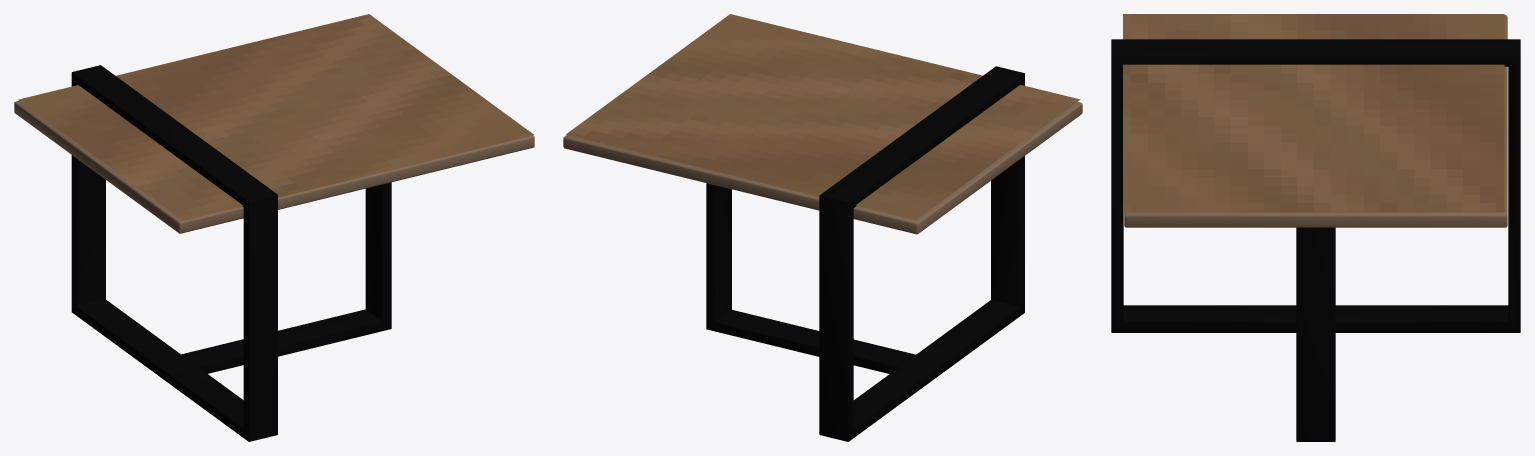
Rendered from table.glb.
3 renders of one model, left to right at view 1: azimuth 30°, elevation 25°; view 2: azimuth 150°, elevation 25°; view 3: azimuth 270°, elevation 25°, orthographic. The views are drawn at different scales.
Visible parts, largest first — view 1: Plane, Cube.002; view 2: Plane, Cube.002; view 3: Plane, Cube.002.
Boxes of the visible parts, box(x1,y1,x2,y2) form: Plane: box(18, 14, 533, 220); Cube.002: box(14, 65, 534, 441); Plane: box(566, 14, 1080, 219); Cube.002: box(563, 66, 1082, 441); Plane: box(1123, 14, 1504, 211); Cube.002: box(1111, 15, 1520, 441).
Bounding box in the file's own units: 1.17 × 0.7542 × 1.01.
Materials: 2 (2 with a texture image).
